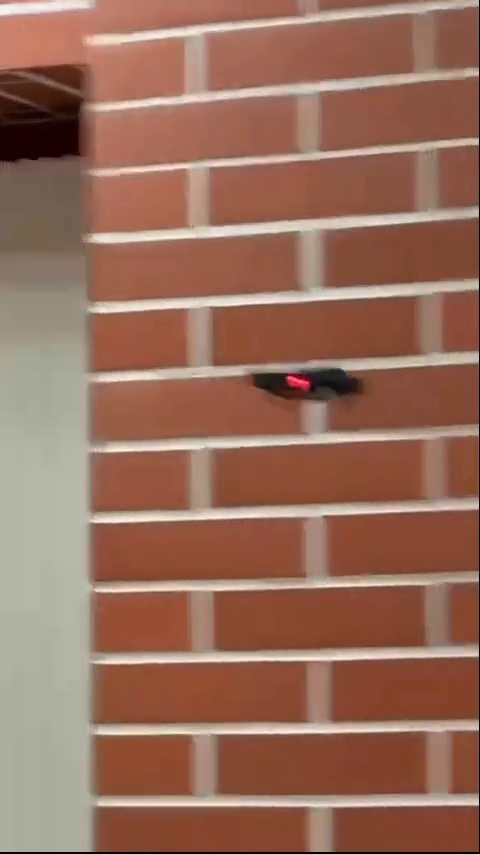drone: (251, 361, 367, 410)
